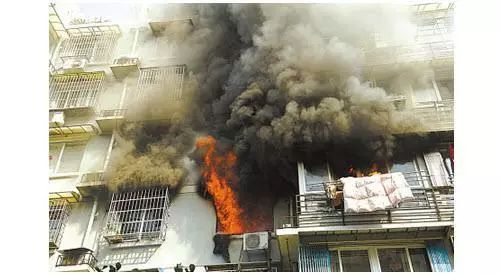fire: (190, 132, 257, 241)
smoke: (188, 8, 423, 126)
